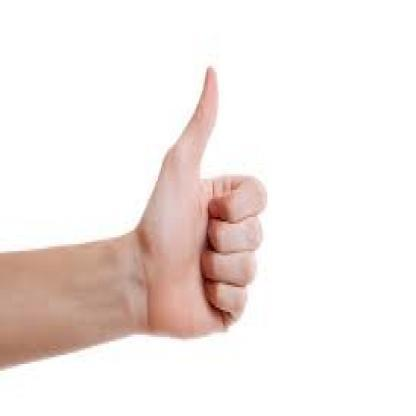thumb_up: (136, 60, 268, 342)
